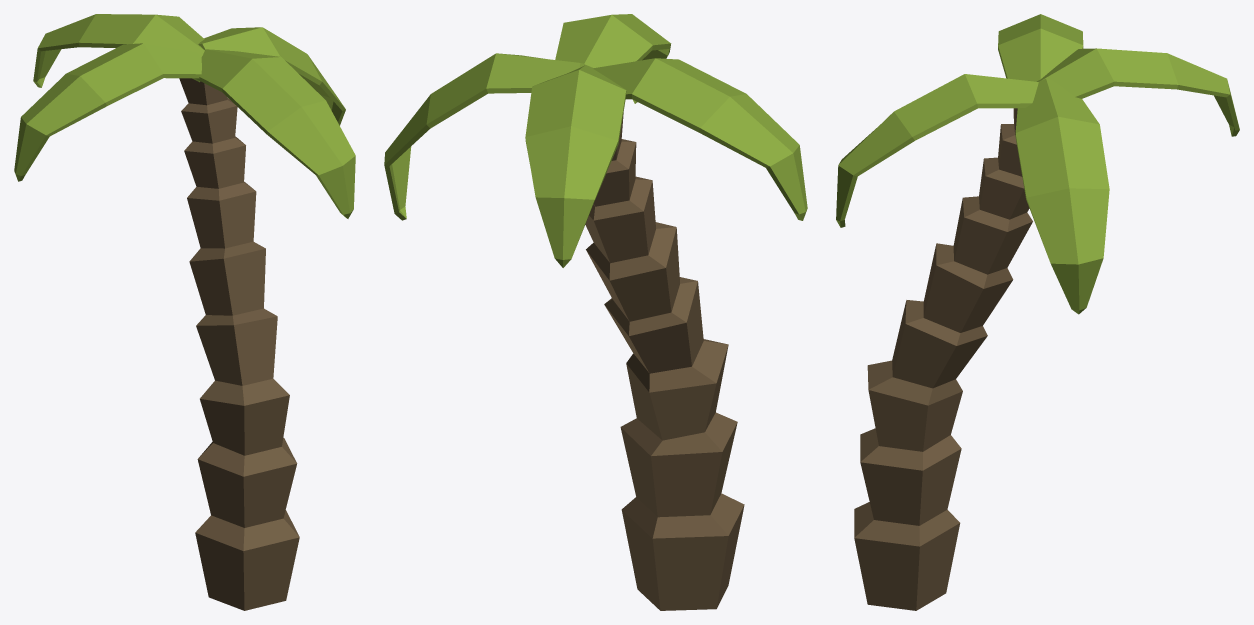
The model's file is Palm.fbx.
The picture shows the model from 3 angles, left to right: view 1: azimuth 30°, elevation 25°; view 2: azimuth 150°, elevation 25°; view 3: azimuth 270°, elevation 25°; orthographic projection. The views are drawn at different scales.
Parts seen in each view (by area): view 1: Palm; view 2: Palm; view 3: Palm.
Part boxes in pixels (bbox=[...]): Palm: bbox=[14, 14, 355, 610]; Palm: bbox=[384, 14, 807, 610]; Palm: bbox=[836, 14, 1239, 610].
Bounding box in the file's own units: 242 × 349 × 235.
